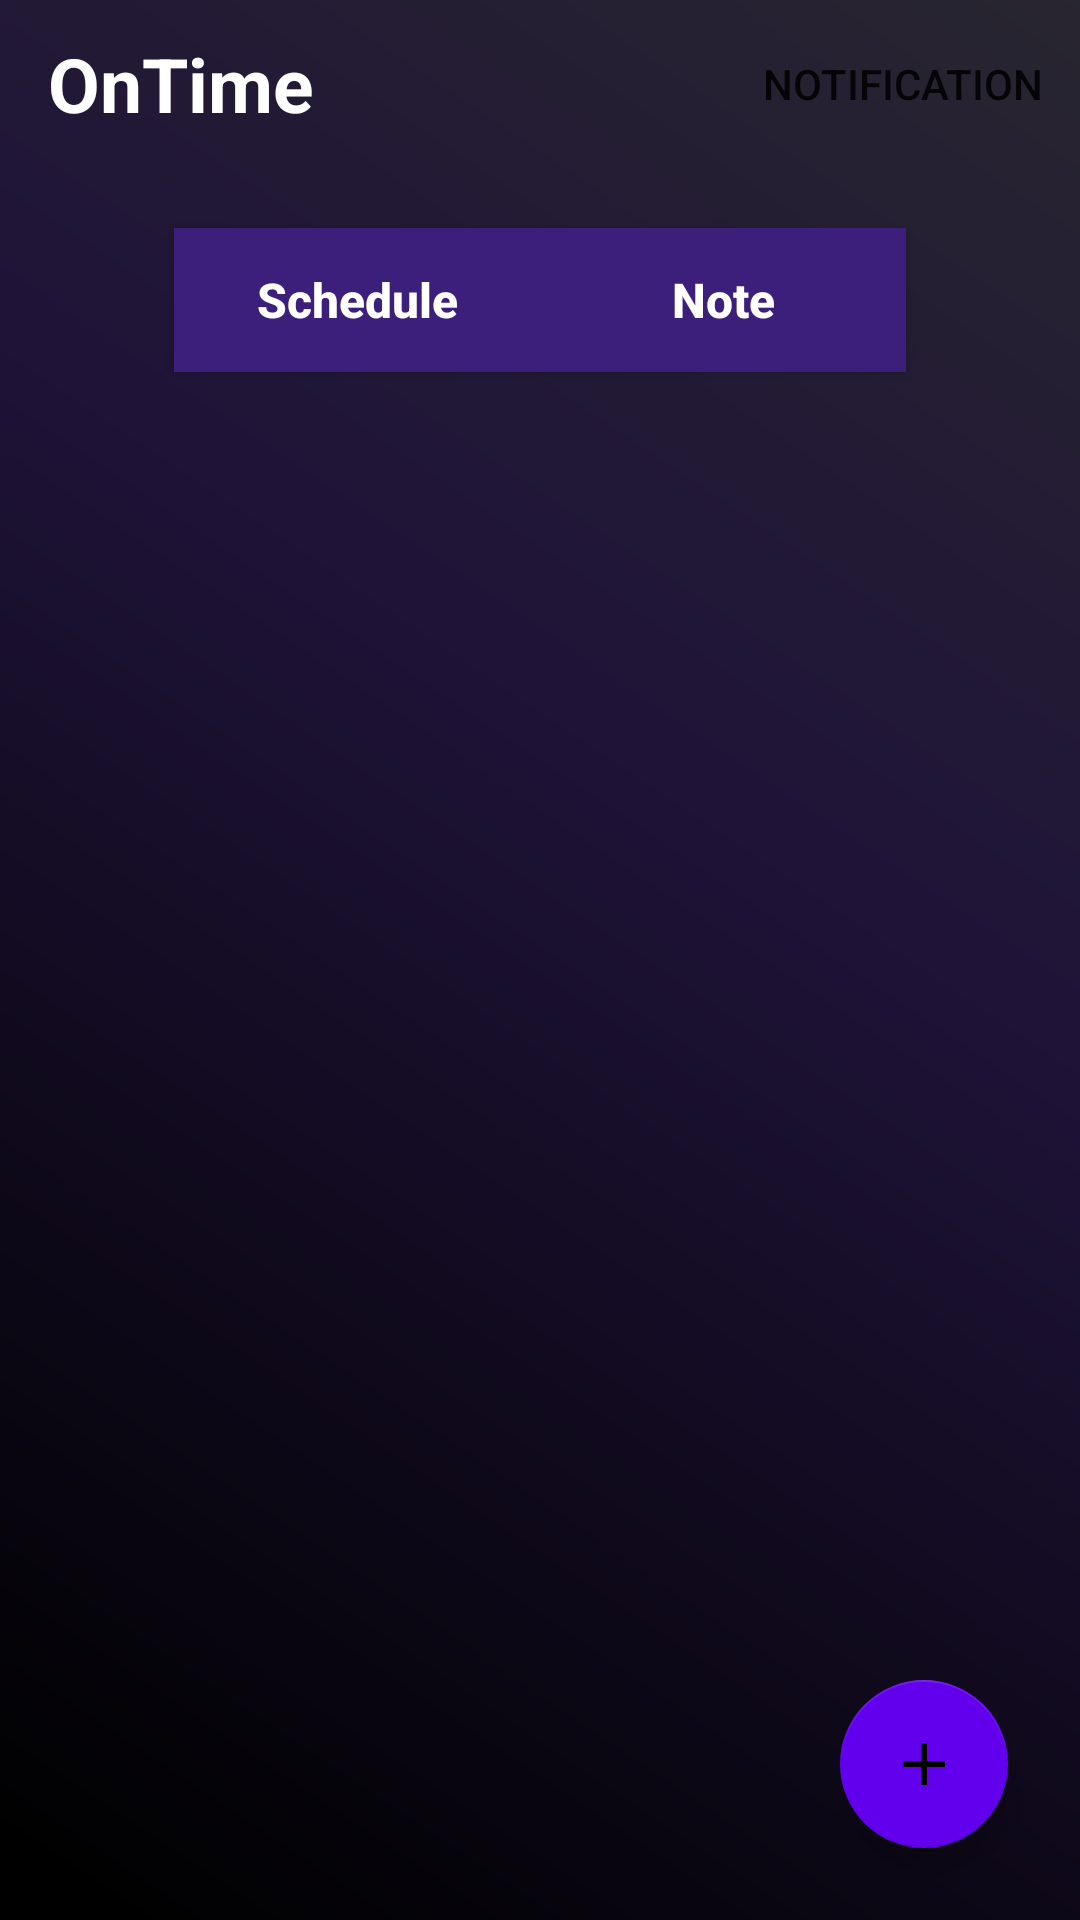

Icons on this 1080px×1920px Android screen, each with its box as bbox=(x1, y1, x2, y2):
Add Menu: bbox=(840, 1680, 1008, 1848)
